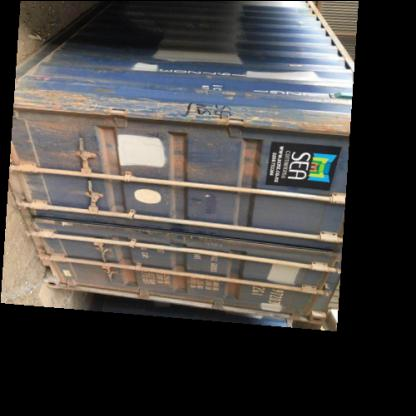Damage: (17, 80, 118, 114), (178, 95, 260, 124), (168, 132, 192, 184), (243, 138, 267, 182), (173, 256, 199, 292), (224, 260, 246, 294), (125, 250, 144, 284)
